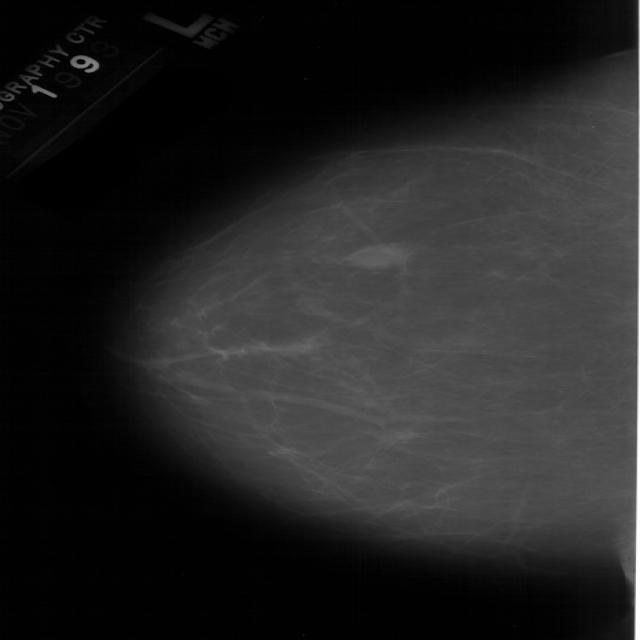tumour: (344, 244, 409, 269)
